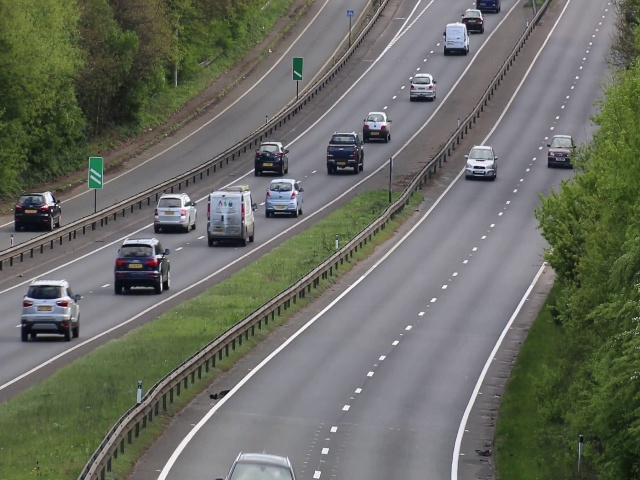car: (21, 276, 79, 341), (113, 235, 171, 294), (207, 185, 254, 246), (326, 129, 365, 176), (263, 175, 303, 219), (15, 190, 60, 229), (153, 192, 196, 232), (462, 142, 496, 180), (254, 142, 289, 176), (360, 108, 393, 141), (441, 20, 471, 56), (548, 132, 574, 169), (408, 72, 437, 100), (463, 7, 485, 31)
